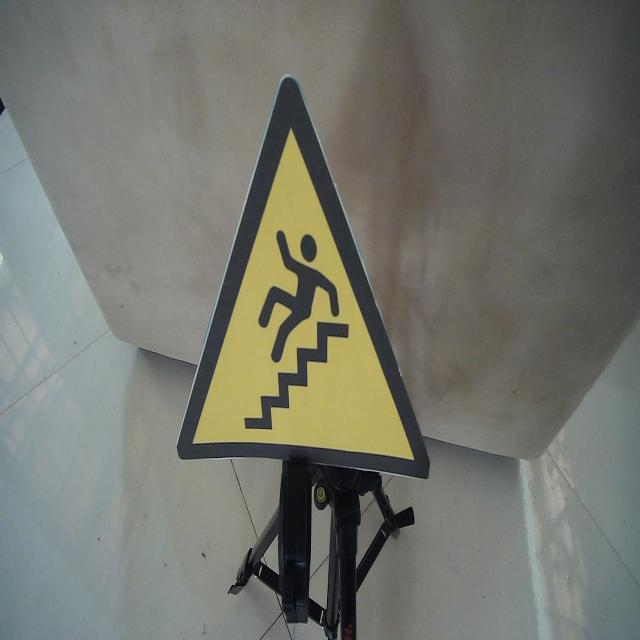stairs: (175, 70, 432, 482)
